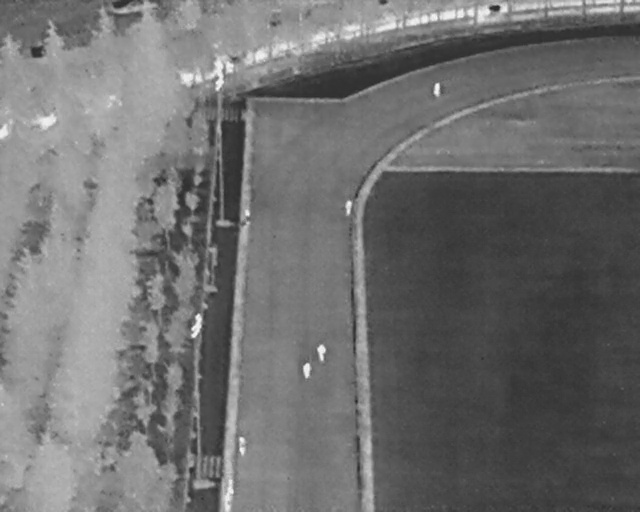Person: (238, 435, 248, 457), (317, 343, 326, 363), (222, 493, 232, 511), (344, 199, 353, 217), (303, 361, 312, 379), (433, 81, 441, 99), (227, 476, 234, 496), (244, 208, 252, 225)
